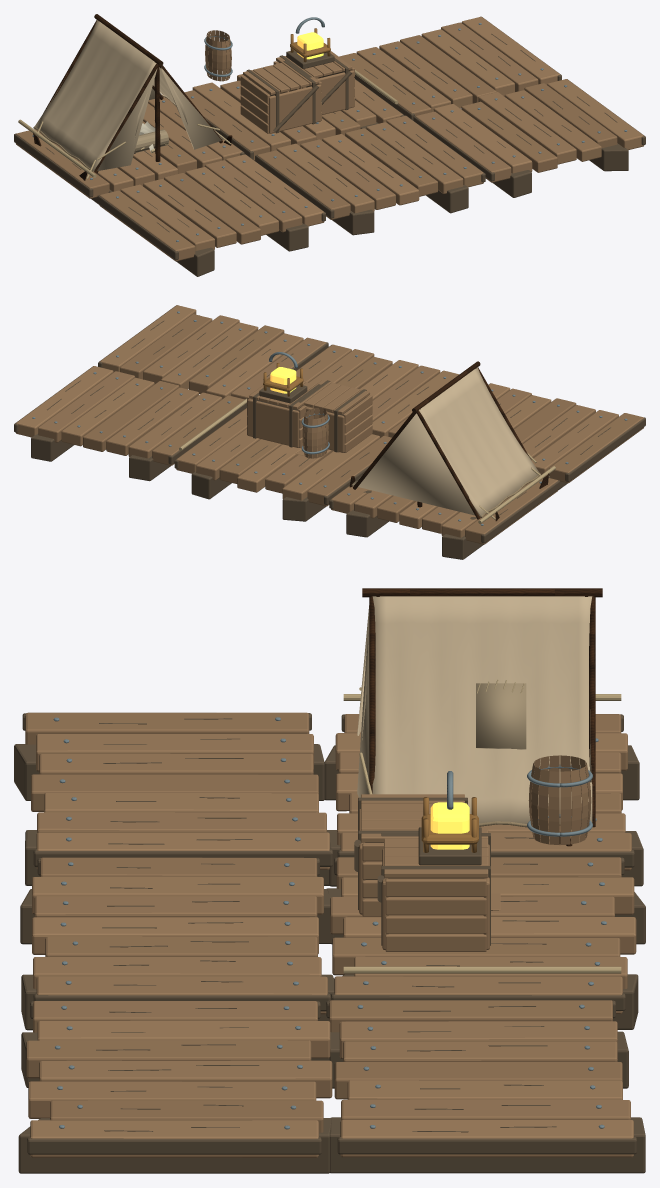
The model's file is raft_initial_v005.glb.
3 renders of one model, top to bottom at view 1: azimuth 30°, elevation 25°; view 2: azimuth 150°, elevation 25°; view 3: azimuth 270°, elevation 25°, orthographic. The views are drawn at different scales.
Parts seen in each view (by area): view 1: GEO-root-decor-2742.001, GEO-deck-intact-378.004, GEO-deck-intact-378.003, GEO-deck-intact-378.002, GEO-Tent-MAT-Tent-WaxedLinen.001, GEO-deck-intact-378.001, GEO-root-decor-2208.001, GEO-deck-intact-972.002, GEO-deck-intact-972.003, GEO-deck-intact-972.004, GEO-Tent-MAT-DarkTimber.001, GEO-root-decor-1440.001 (+6 smaller); view 2: GEO-root-decor-2742.001, GEO-Tent-MAT-Tent-WaxedLinen.001, GEO-deck-intact-378.001, GEO-deck-intact-378.004, GEO-deck-intact-378.002, GEO-deck-intact-378.003, GEO-root-decor-2208.001, GEO-deck-intact-972.001, GEO-Tent-MAT-DarkTimber.001, GEO-deck-intact-972.002, GEO-root-decor-1440.001, GEO-deck-intact-972.004 (+3 smaller); view 3: GEO-root-decor-2742.001, GEO-deck-intact-378.004, GEO-deck-intact-378.001, GEO-Tent-MAT-Tent-WaxedLinen.001, GEO-deck-intact-378.003, GEO-deck-intact-378.002, GEO-deck-intact-972.001, GEO-deck-intact-972.004, GEO-root-decor-2208.001, GEO-deck-intact-972.002, GEO-deck-intact-972.003, GEO-Tent-MAT-DarkTimber.001 (+6 smaller).
Boxes of the visible parts, x1=… form: GEO-root-decor-2742.001: x1=16, y1=30, x2=402, y2=198; GEO-deck-intact-378.004: x1=415, y1=79, x2=644, y2=182; GEO-deck-intact-378.003: x1=257, y1=115, x2=483, y2=219; GEO-deck-intact-378.002: x1=99, y1=154, x2=324, y2=261; GEO-Tent-MAT-Tent-WaxedLinen.001: x1=34, y1=20, x2=223, y2=170; GEO-deck-intact-378.001: x1=339, y1=16, x2=559, y2=115; GEO-root-decor-2208.001: x1=14, y1=55, x2=404, y2=204; GEO-deck-intact-972.002: x1=97, y1=154, x2=325, y2=276; GEO-deck-intact-972.003: x1=255, y1=115, x2=485, y2=235; GEO-deck-intact-972.004: x1=413, y1=79, x2=645, y2=197; GEO-Tent-MAT-DarkTimber.001: x1=33, y1=14, x2=232, y2=180; GEO-root-decor-1440.001: x1=18, y1=70, x2=398, y2=177; GEO-root-decor-2742.001: x1=176, y1=380, x2=558, y2=544; GEO-Tent-MAT-Tent-WaxedLinen.001: x1=352, y1=367, x2=539, y2=516; GEO-deck-intact-378.001: x1=15, y1=366, x2=244, y2=465; GEO-deck-intact-378.004: x1=100, y1=305, x2=326, y2=399; GEO-deck-intact-378.002: x1=488, y1=383, x2=643, y2=483; GEO-deck-intact-378.003: x1=296, y1=344, x2=458, y2=437; GEO-root-decor-2208.001: x1=174, y1=380, x2=559, y2=559; GEO-deck-intact-972.001: x1=14, y1=366, x2=247, y2=481; GEO-Tent-MAT-DarkTimber.001: x1=349, y1=361, x2=548, y2=521; GEO-deck-intact-972.002: x1=488, y1=383, x2=645, y2=489; GEO-root-decor-1440.001: x1=179, y1=398, x2=555, y2=523; GEO-deck-intact-972.004: x1=98, y1=305, x2=328, y2=379; GEO-root-decor-2742.001: x1=330, y1=714, x2=636, y2=1013; GEO-deck-intact-378.004: x1=26, y1=1001, x2=332, y2=1157; GEO-deck-intact-378.001: x1=329, y1=1000, x2=633, y2=1157; GEO-Tent-MAT-Tent-WaxedLinen.001: x1=357, y1=596, x2=592, y2=823; GEO-deck-intact-378.003: x1=32, y1=857, x2=327, y2=1014; GEO-deck-intact-378.002: x1=25, y1=712, x2=329, y2=869; GEO-deck-intact-972.001: x1=326, y1=1000, x2=645, y2=1173; GEO-deck-intact-972.004: x1=18, y1=1001, x2=331, y2=1173; GEO-root-decor-2208.001: x1=324, y1=714, x2=645, y2=1029; GEO-deck-intact-972.002: x1=14, y1=713, x2=336, y2=885; GEO-deck-intact-972.003: x1=20, y1=858, x2=334, y2=1030; GEO-Tent-MAT-DarkTimber.001: x1=362, y1=588, x2=602, y2=846.
Bounding box in the file's own units: 6.98 × 1.88 × 4.37.
Materials: 40 (1 with a texture image).
